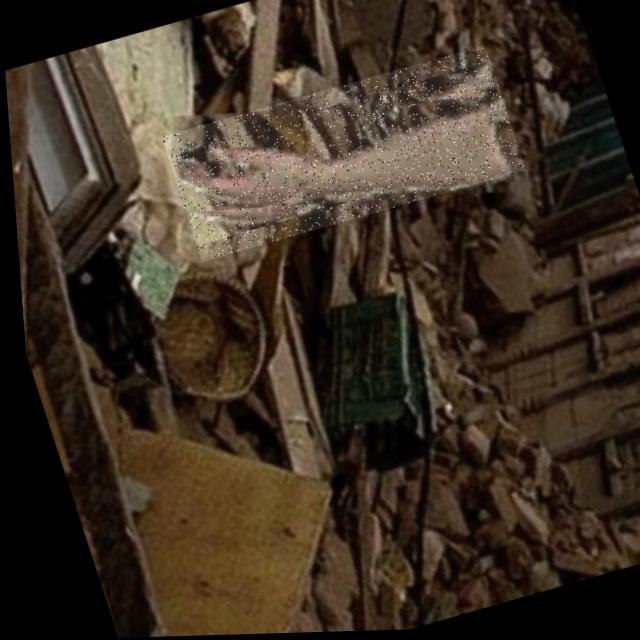Person in Rubble: (153, 47, 527, 264)
